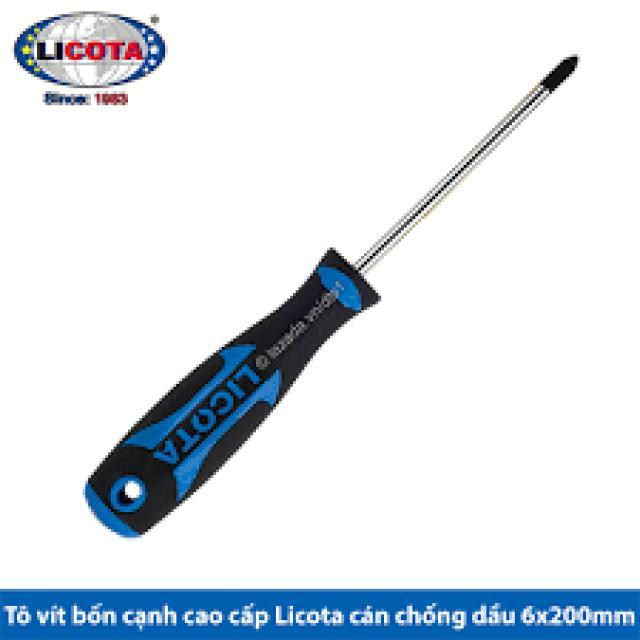screwdriver: (81, 47, 585, 542)
